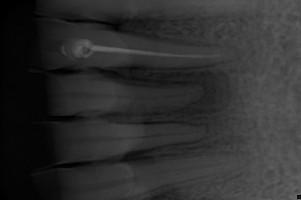Furcation Involvement: (126, 70, 232, 117)
